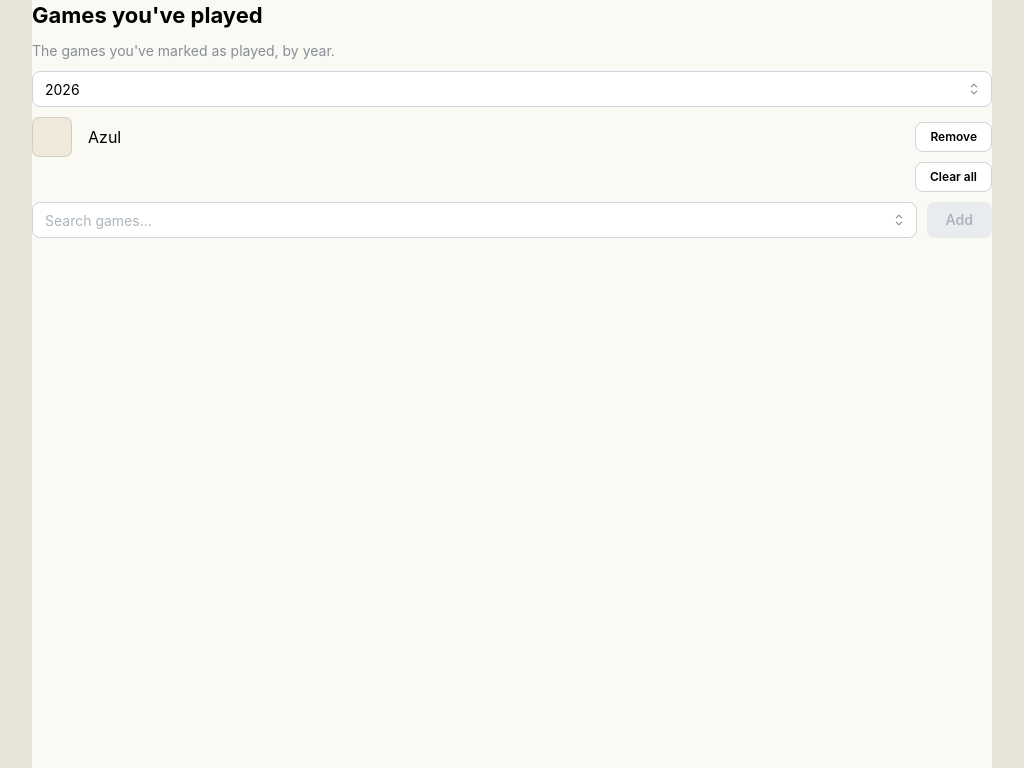
it: ProfilePlayed › Clear all › clears once on confirm and closes
Click the button "Clear all".
click(954, 177)  # box x1=915 y1=162 x2=992 y2=192
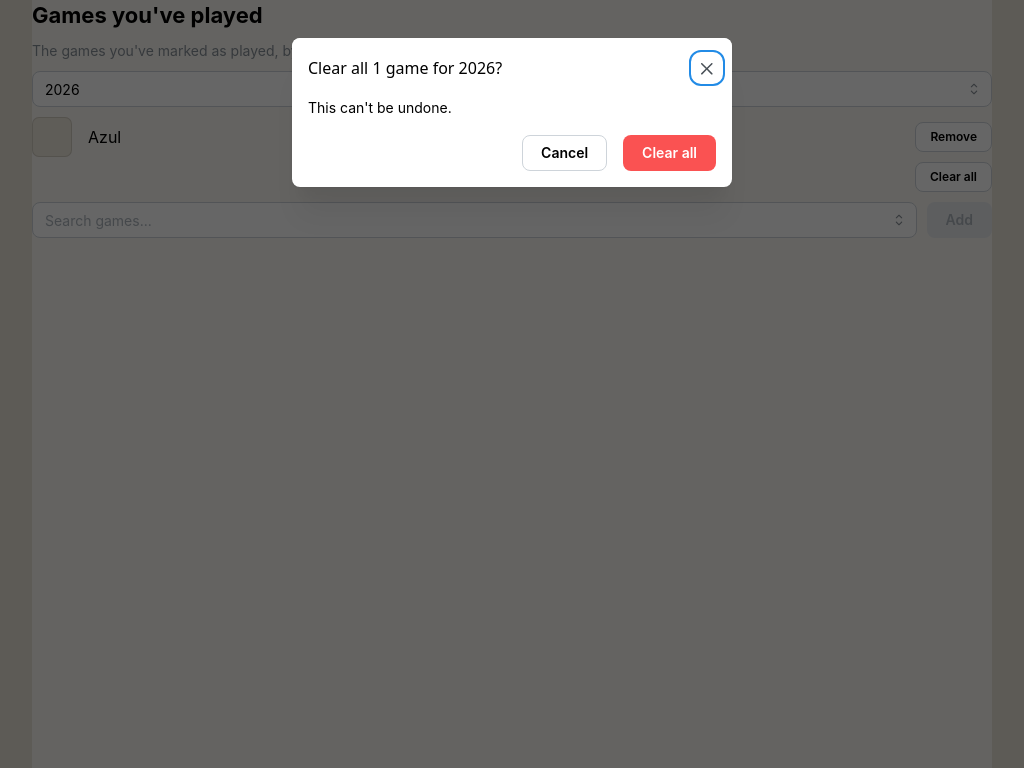
Click the button "Clear all".
click(670, 153)  # box x1=623 y1=135 x2=716 y2=171
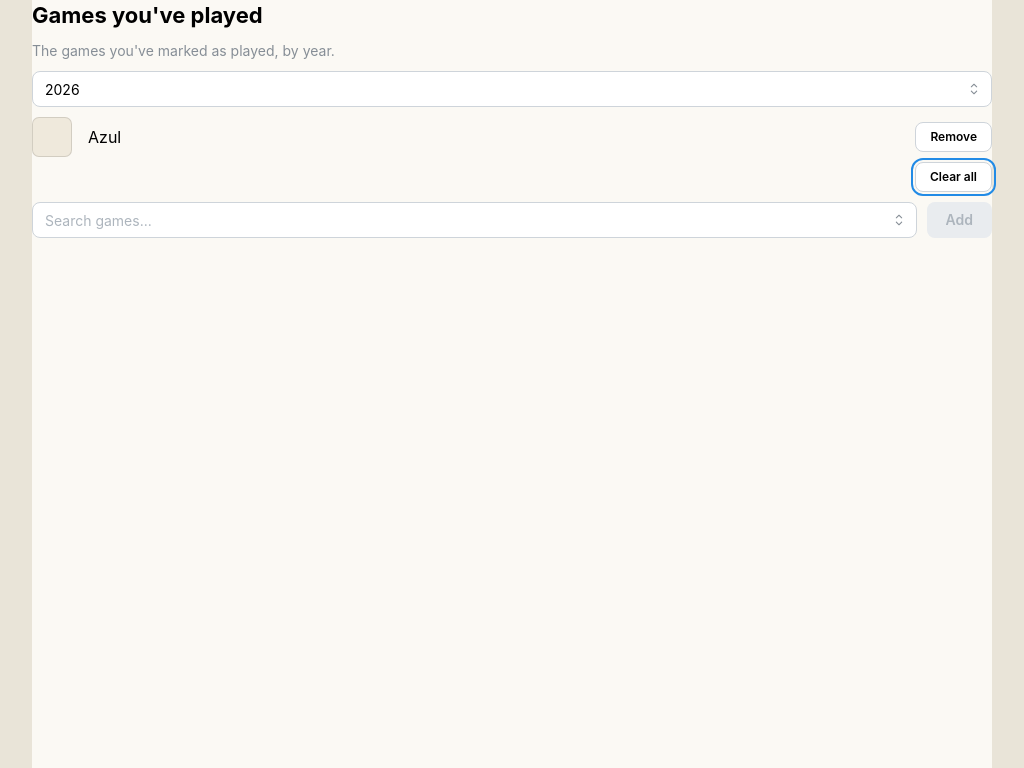
Result: the text "This can't be undone." is gone
